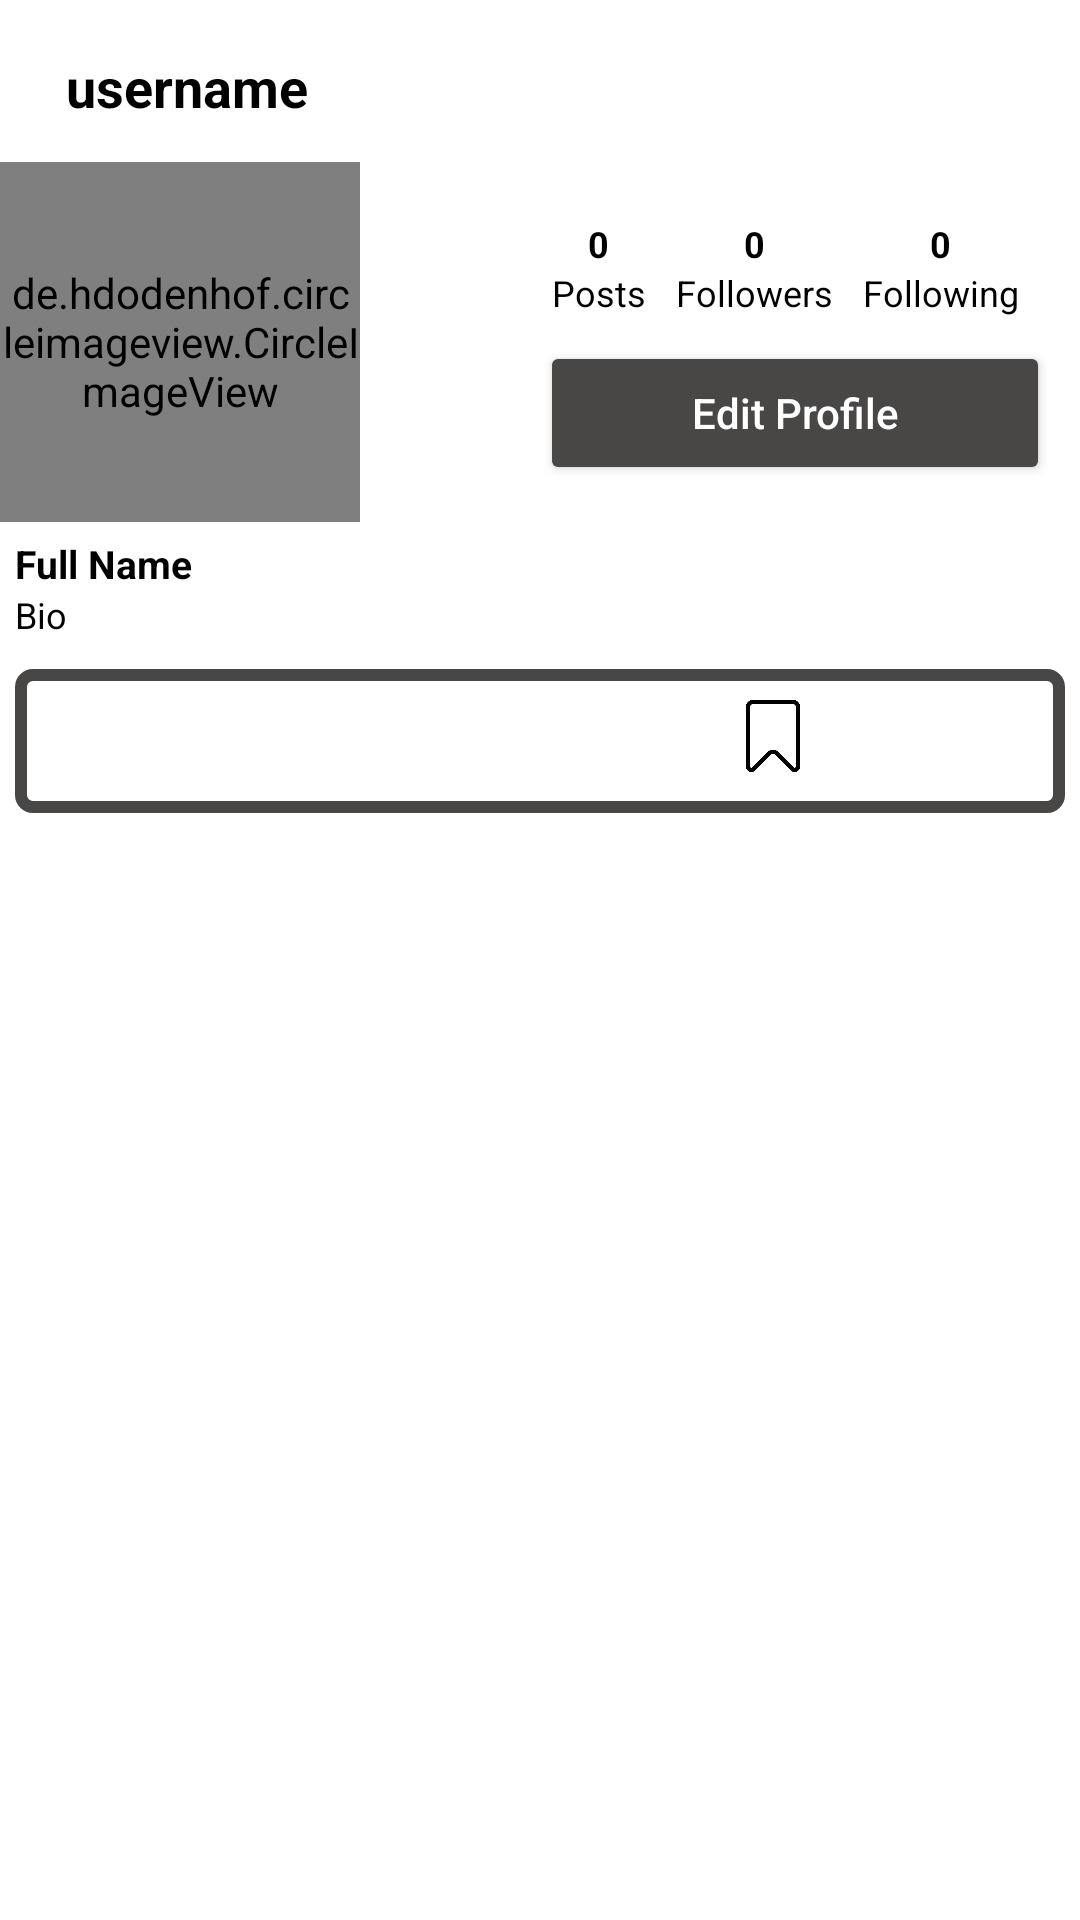

Named icons in this screenshot (1080*1920) and their bounding boxes, (x1, y1, x2, y2):
saver: (746, 700, 800, 772)
